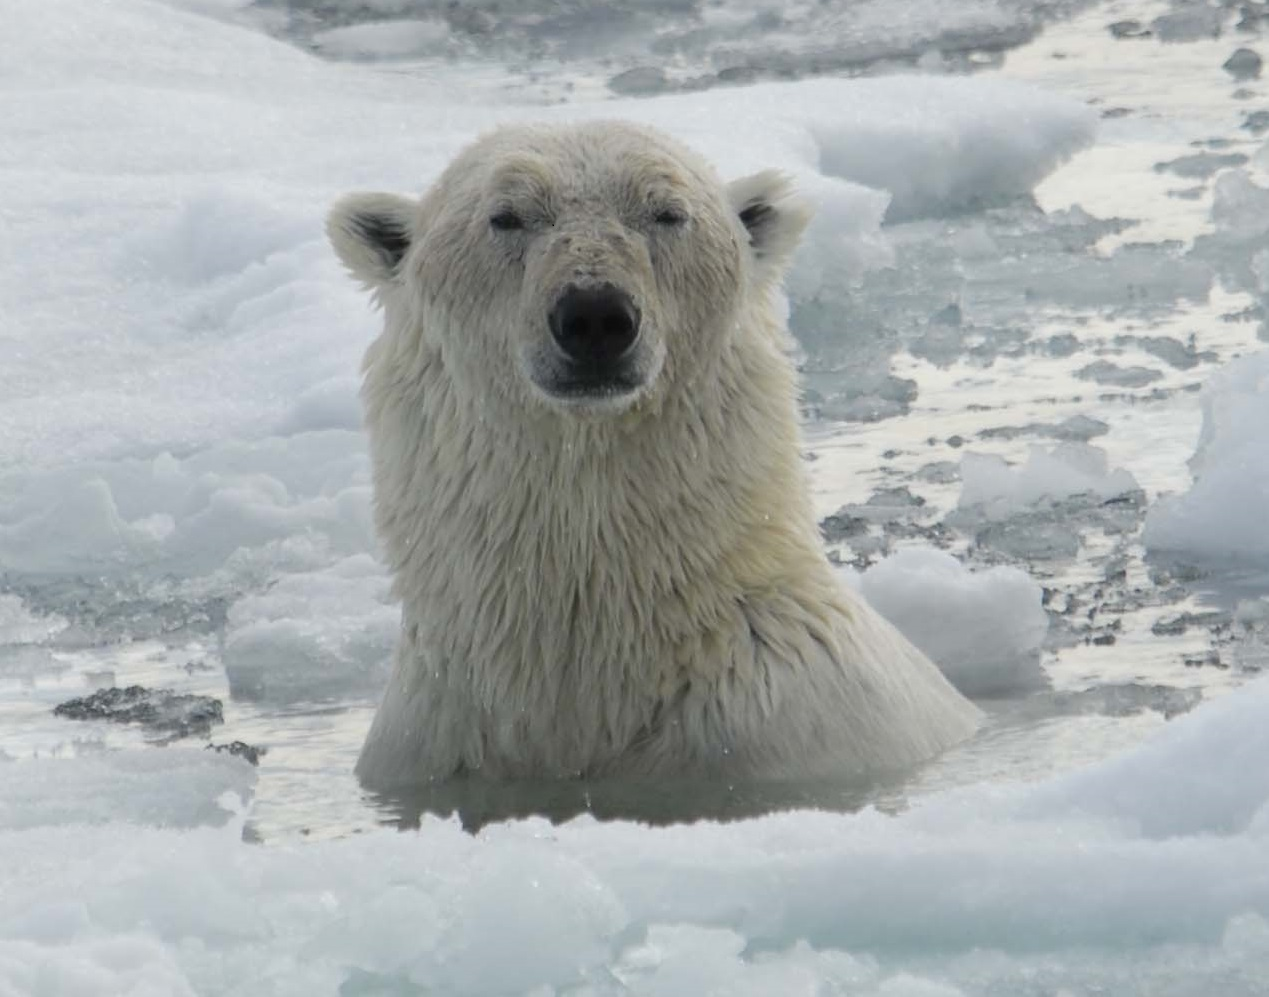Polar Bear: (321, 80, 1057, 895)
